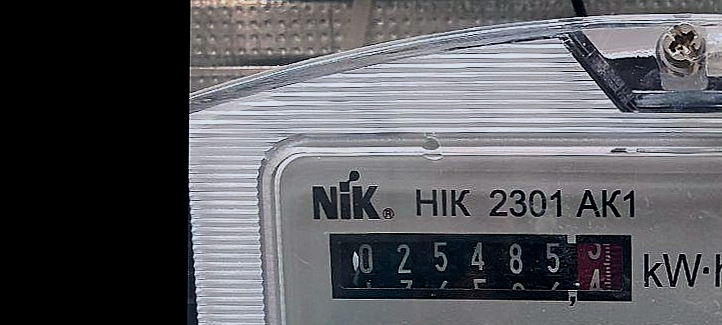0: (355, 239, 376, 275)
2: (394, 240, 414, 275)
4: (467, 238, 488, 272), (586, 265, 605, 293)
5: (542, 238, 563, 276), (430, 237, 450, 272)
8: (506, 238, 526, 276)
screen: (320, 223, 641, 312)
